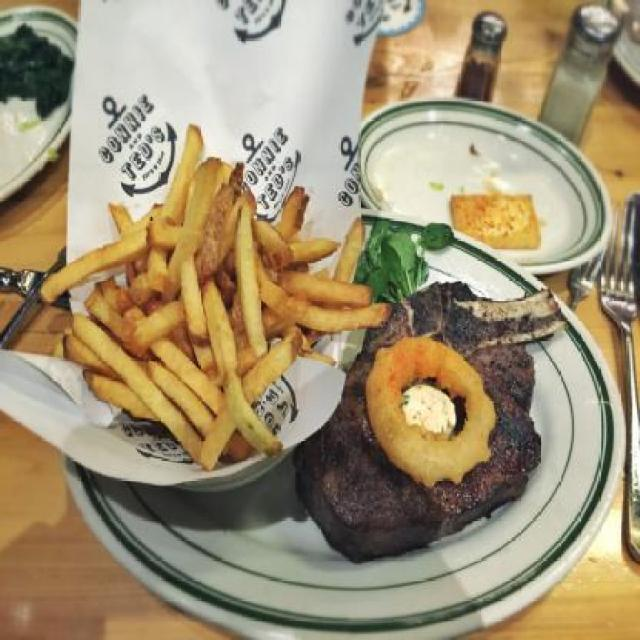French fries: (74, 320, 212, 471), (116, 293, 232, 422), (202, 278, 284, 460), (196, 330, 304, 468), (254, 260, 388, 338), (146, 120, 203, 294), (38, 224, 154, 302), (162, 150, 220, 301), (150, 358, 227, 458), (229, 197, 273, 360), (203, 161, 246, 270), (197, 268, 235, 390), (322, 215, 367, 314), (198, 182, 230, 280), (274, 273, 372, 305), (249, 213, 293, 270), (110, 202, 138, 286), (86, 288, 130, 338), (274, 184, 303, 242), (286, 234, 342, 262), (148, 214, 186, 254), (286, 190, 310, 242), (296, 347, 338, 371), (100, 266, 116, 308), (259, 302, 276, 332)
